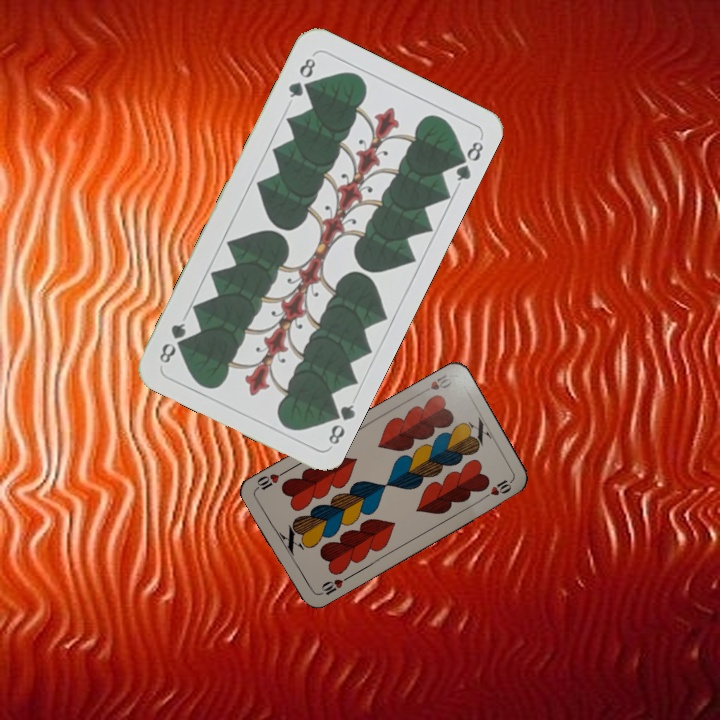G8: (323, 400, 358, 448), (284, 54, 318, 101)
H10: (416, 370, 455, 397), (314, 572, 351, 598)
